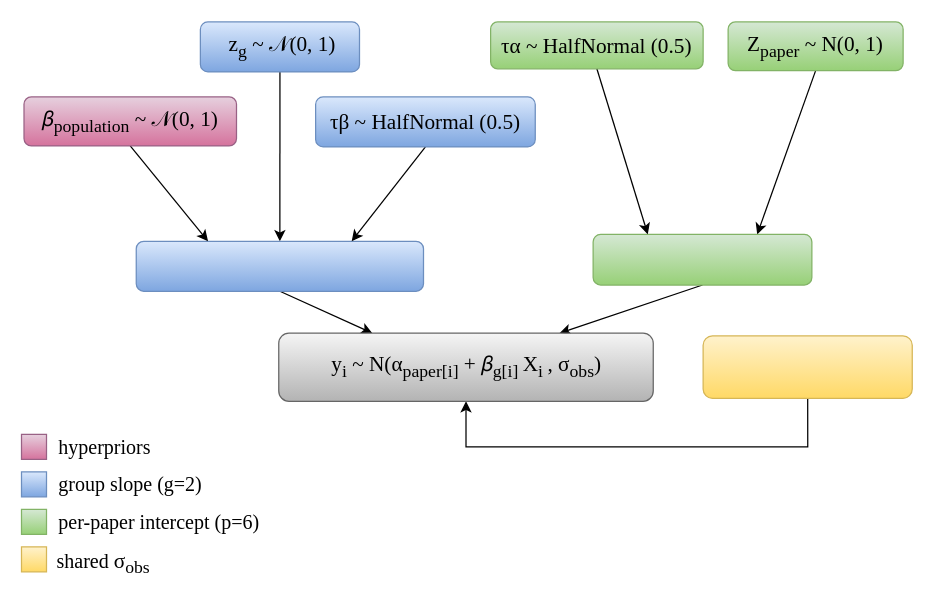
Some shapes in this 935 by 600 pixel diagram are drawn without their labels. The box of each missing label's shape, as (x1, y1, x2, y2) in pixels:
α paper = τα Z paper: (592, 233, 812, 285)
σ obs ~ HalfNormal (1): (702, 335, 912, 398)
𝛽 g = 𝛽 population + τ 𝛽 Z g: (135, 240, 424, 291)
